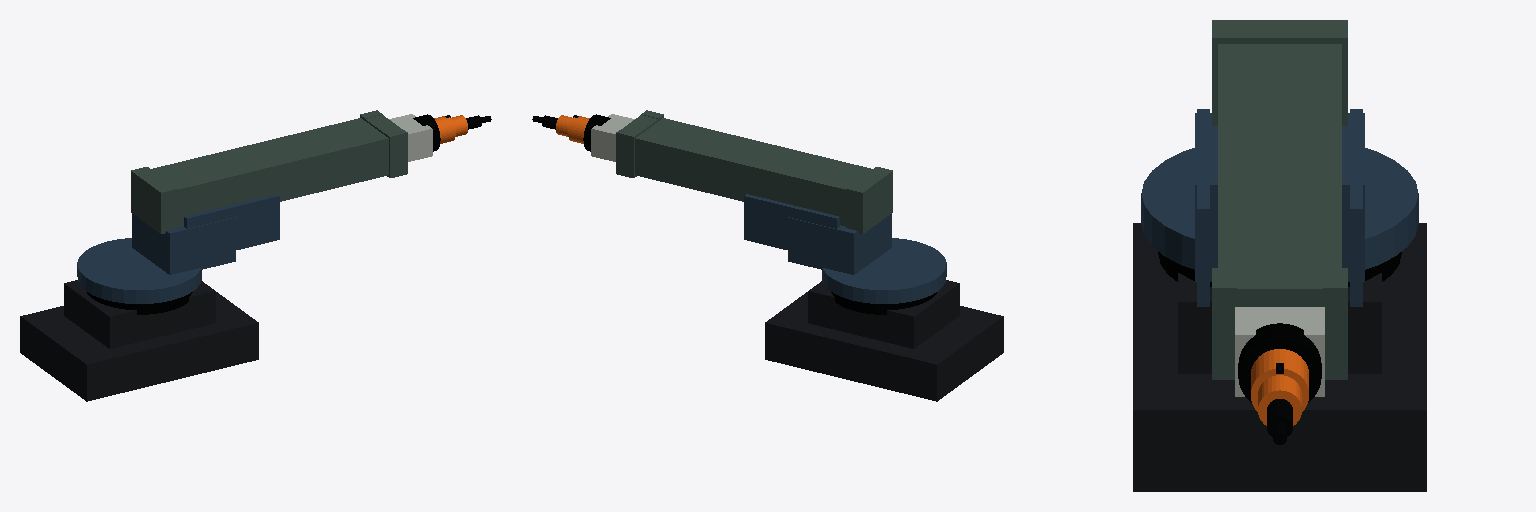
URDF robot description (yawing_telescoping_spindle_arm):
<robot name="yawing_telescoping_spindle_arm">
  <material name="base_casting">
    <color rgba="0.12 0.13 0.14 1" />
    </material>
  <material name="bearing_black">
    <color rgba="0.02 0.022 0.024 1" />
    </material>
  <material name="turntable_blue">
    <color rgba="0.19 0.27 0.34 1" />
    </material>
  <material name="beam_oxide">
    <color rgba="0.27 0.34 0.31 1" />
    </material>
  <material name="slide_steel">
    <color rgba="0.67 0.69 0.66 1" />
    </material>
  <material name="wear_strip">
    <color rgba="0.08 0.09 0.1 1" />
    </material>
  <material name="spindle_orange">
    <color rgba="0.86 0.42 0.12 1" />
    </material>
  <material name="tool_dark">
    <color rgba="0.03 0.035 0.038 1" />
    </material>
  <link name="base">
    <visual name="floor_housing">
      <origin xyz="0 0 0.08" rpy="0 0 0" />
      <geometry>
        <box size="0.78 0.52 0.16" />
        </geometry>
      <material name="base_casting" />
      </visual>
    <visual name="upper_housing">
      <origin xyz="0 0 0.225" rpy="0 0 0" />
      <geometry>
        <box size="0.48 0.36 0.15" />
        </geometry>
      <material name="base_casting" />
      </visual>
    <visual name="yaw_bearing">
      <origin xyz="0 0 0.31" rpy="0 0 0" />
      <geometry>
        <cylinder radius="0.215" length="0.06" />
        </geometry>
      <material name="bearing_black" />
      </visual>
    <visual name="center_boss">
      <origin xyz="0 0 0.255" rpy="0 0 0" />
      <geometry>
        <cylinder radius="0.115" length="0.11" />
        </geometry>
      <material name="bearing_black" />
      </visual>
    <collision name="floor_housing">
      <origin xyz="0 0 0.08" rpy="0 0 0" />
      <geometry>
        <box size="0.78 0.52 0.16" />
        </geometry>
      </collision>
    <collision name="upper_housing">
      <origin xyz="0 0 0.225" rpy="0 0 0" />
      <geometry>
        <box size="0.48 0.36 0.15" />
        </geometry>
      </collision>
    <collision name="yaw_bearing">
      <origin xyz="0 0 0.31" rpy="0 0 0" />
      <geometry>
        <cylinder radius="0.215" length="0.06" />
        </geometry>
      </collision>
    <collision name="center_boss">
      <origin xyz="0 0 0.255" rpy="0 0 0" />
      <geometry>
        <cylinder radius="0.115" length="0.11" />
        </geometry>
      </collision>
    </link>
  <link name="beam">
    <visual name="turntable_disk">
      <origin xyz="0 0 0.03" rpy="0 0 0" />
      <geometry>
        <cylinder radius="0.245" length="0.06" />
        </geometry>
      <material name="turntable_blue" />
      </visual>
    <visual name="saddle_column">
      <origin xyz="0.2 0 0.145" rpy="0 0 0" />
      <geometry>
        <box size="0.3 0.3 0.19" />
        </geometry>
      <material name="turntable_blue" />
      </visual>
    <visual name="side_gusset_0">
      <origin xyz="0.34 0.135 0.19" rpy="0 0 0" />
      <geometry>
        <box size="0.42 0.022 0.19" />
        </geometry>
      <material name="turntable_blue" />
      </visual>
    <visual name="side_gusset_1">
      <origin xyz="0.34 -0.135 0.19" rpy="0 0 0" />
      <geometry>
        <box size="0.42 0.022 0.19" />
        </geometry>
      <material name="turntable_blue" />
      </visual>
    <visual name="guide_top">
      <origin xyz="0.59 0 0.3825" rpy="0 0 0" />
      <geometry>
        <box size="1.02 0.22 0.035" />
        </geometry>
      <material name="beam_oxide" />
      </visual>
    <visual name="guide_bottom">
      <origin xyz="0.59 0 0.2575" rpy="0 0 0" />
      <geometry>
        <box size="1.02 0.22 0.035" />
        </geometry>
      <material name="beam_oxide" />
      </visual>
    <visual name="guide_side_pos">
      <origin xyz="0.59 0.09 0.32" rpy="0 0 0" />
      <geometry>
        <box size="1.02 0.04 0.16" />
        </geometry>
      <material name="beam_oxide" />
      </visual>
    <visual name="guide_side_neg">
      <origin xyz="0.59 -0.09 0.32" rpy="0 0 0" />
      <geometry>
        <box size="1.02 0.04 0.16" />
        </geometry>
      <material name="beam_oxide" />
      </visual>
    <visual name="rear_stop_block">
      <origin xyz="0.065 0 0.32" rpy="0 0 0" />
      <geometry>
        <box size="0.075 0.24 0.18" />
        </geometry>
      <material name="beam_oxide" />
      </visual>
    <visual name="front_collar_top">
      <origin xyz="1.105 0 0.39" rpy="0 0 0" />
      <geometry>
        <box size="0.08 0.24 0.036" />
        </geometry>
      <material name="beam_oxide" />
      </visual>
    <visual name="front_collar_bottom">
      <origin xyz="1.105 0 0.25" rpy="0 0 0" />
      <geometry>
        <box size="0.08 0.24 0.036" />
        </geometry>
      <material name="beam_oxide" />
      </visual>
    <visual name="front_collar_side_pos">
      <origin xyz="1.105 0.098 0.32" rpy="0 0 0" />
      <geometry>
        <box size="0.08 0.044 0.18" />
        </geometry>
      <material name="beam_oxide" />
      </visual>
    <visual name="front_collar_side_neg">
      <origin xyz="1.105 -0.098 0.32" rpy="0 0 0" />
      <geometry>
        <box size="0.08 0.044 0.18" />
        </geometry>
      <material name="beam_oxide" />
      </visual>
    <collision name="turntable_disk">
      <origin xyz="0 0 0.03" rpy="0 0 0" />
      <geometry>
        <cylinder radius="0.245" length="0.06" />
        </geometry>
      </collision>
    <collision name="saddle_column">
      <origin xyz="0.2 0 0.145" rpy="0 0 0" />
      <geometry>
        <box size="0.3 0.3 0.19" />
        </geometry>
      </collision>
    <collision name="side_gusset_0">
      <origin xyz="0.34 0.135 0.19" rpy="0 0 0" />
      <geometry>
        <box size="0.42 0.022 0.19" />
        </geometry>
      </collision>
    <collision name="side_gusset_1">
      <origin xyz="0.34 -0.135 0.19" rpy="0 0 0" />
      <geometry>
        <box size="0.42 0.022 0.19" />
        </geometry>
      </collision>
    <collision name="guide_top">
      <origin xyz="0.59 0 0.3825" rpy="0 0 0" />
      <geometry>
        <box size="1.02 0.22 0.035" />
        </geometry>
      </collision>
    <collision name="guide_bottom">
      <origin xyz="0.59 0 0.2575" rpy="0 0 0" />
      <geometry>
        <box size="1.02 0.22 0.035" />
        </geometry>
      </collision>
    <collision name="guide_side_pos">
      <origin xyz="0.59 0.09 0.32" rpy="0 0 0" />
      <geometry>
        <box size="1.02 0.04 0.16" />
        </geometry>
      </collision>
    <collision name="guide_side_neg">
      <origin xyz="0.59 -0.09 0.32" rpy="0 0 0" />
      <geometry>
        <box size="1.02 0.04 0.16" />
        </geometry>
      </collision>
    <collision name="rear_stop_block">
      <origin xyz="0.065 0 0.32" rpy="0 0 0" />
      <geometry>
        <box size="0.075 0.24 0.18" />
        </geometry>
      </collision>
    <collision name="front_collar_top">
      <origin xyz="1.105 0 0.39" rpy="0 0 0" />
      <geometry>
        <box size="0.08 0.24 0.036" />
        </geometry>
      </collision>
    <collision name="front_collar_bottom">
      <origin xyz="1.105 0 0.25" rpy="0 0 0" />
      <geometry>
        <box size="0.08 0.24 0.036" />
        </geometry>
      </collision>
    <collision name="front_collar_side_pos">
      <origin xyz="1.105 0.098 0.32" rpy="0 0 0" />
      <geometry>
        <box size="0.08 0.044 0.18" />
        </geometry>
      </collision>
    <collision name="front_collar_side_neg">
      <origin xyz="1.105 -0.098 0.32" rpy="0 0 0" />
      <geometry>
        <box size="0.08 0.044 0.18" />
        </geometry>
      </collision>
    </link>
  <link name="forearm">
    <visual name="inner_member">
      <origin xyz="0.12 0 0" rpy="0 0 0" />
      <geometry>
        <box size="0.96 0.108 0.06" />
        </geometry>
      <material name="slide_steel" />
      </visual>
    <visual name="slide_strip_pos">
      <origin xyz="0.16 0.059 0" rpy="0 0 0" />
      <geometry>
        <box size="0.82 0.022 0.066" />
        </geometry>
      <material name="wear_strip" />
      </visual>
    <visual name="slide_strip_neg">
      <origin xyz="0.16 -0.059 0" rpy="0 0 0" />
      <geometry>
        <box size="0.82 0.022 0.066" />
        </geometry>
      <material name="wear_strip" />
      </visual>
    <visual name="end_carriage">
      <origin xyz="0.64 0 0" rpy="0 0 0" />
      <geometry>
        <box size="0.12 0.16 0.12" />
        </geometry>
      <material name="slide_steel" />
      </visual>
    <visual name="bearing_shell">
      <origin xyz="0.71 0 0" rpy="0 1.5708 0" />
      <geometry>
        <cylinder radius="0.074" length="0.06" />
        </geometry>
      <material name="bearing_black" />
      </visual>
    <collision name="inner_member">
      <origin xyz="0.12 0 0" rpy="0 0 0" />
      <geometry>
        <box size="0.96 0.108 0.06" />
        </geometry>
      </collision>
    <collision name="slide_strip_pos">
      <origin xyz="0.16 0.059 0" rpy="0 0 0" />
      <geometry>
        <box size="0.82 0.022 0.066" />
        </geometry>
      </collision>
    <collision name="slide_strip_neg">
      <origin xyz="0.16 -0.059 0" rpy="0 0 0" />
      <geometry>
        <box size="0.82 0.022 0.066" />
        </geometry>
      </collision>
    <collision name="end_carriage">
      <origin xyz="0.64 0 0" rpy="0 0 0" />
      <geometry>
        <box size="0.12 0.16 0.12" />
        </geometry>
      </collision>
    <collision name="bearing_shell">
      <origin xyz="0.71 0 0" rpy="0 1.5708 0" />
      <geometry>
        <cylinder radius="0.074" length="0.06" />
        </geometry>
      </collision>
    </link>
  <link name="spindle">
    <visual name="rear_spindle">
      <origin xyz="0.041 0 0" rpy="0 1.5708 0" />
      <geometry>
        <cylinder radius="0.052" length="0.082" />
        </geometry>
      <material name="spindle_orange" />
      </visual>
    <visual name="front_cap">
      <origin xyz="0.113 0 0" rpy="0 1.5708 0" />
      <geometry>
        <cylinder radius="0.039" length="0.066" />
        </geometry>
      <material name="spindle_orange" />
      </visual>
    <visual name="collet">
      <origin xyz="0.181 0 0" rpy="0 1.5708 0" />
      <geometry>
        <cylinder radius="0.023" length="0.074" />
        </geometry>
      <material name="tool_dark" />
      </visual>
    <visual name="tool_stub">
      <origin xyz="0.239 0 0" rpy="0 1.5708 0" />
      <geometry>
        <cylinder radius="0.012" length="0.055" />
        </geometry>
      <material name="tool_dark" />
      </visual>
    <visual name="index_mark">
      <origin xyz="0.075 0 0.049" rpy="0 0 0" />
      <geometry>
        <box size="0.02 0.014 0.012" />
        </geometry>
      <material name="tool_dark" />
      </visual>
    <collision name="rear_spindle">
      <origin xyz="0.041 0 0" rpy="0 1.5708 0" />
      <geometry>
        <cylinder radius="0.052" length="0.082" />
        </geometry>
      </collision>
    <collision name="front_cap">
      <origin xyz="0.113 0 0" rpy="0 1.5708 0" />
      <geometry>
        <cylinder radius="0.039" length="0.066" />
        </geometry>
      </collision>
    <collision name="collet">
      <origin xyz="0.181 0 0" rpy="0 1.5708 0" />
      <geometry>
        <cylinder radius="0.023" length="0.074" />
        </geometry>
      </collision>
    <collision name="tool_stub">
      <origin xyz="0.239 0 0" rpy="0 1.5708 0" />
      <geometry>
        <cylinder radius="0.012" length="0.055" />
        </geometry>
      </collision>
    <collision name="index_mark">
      <origin xyz="0.075 0 0.049" rpy="0 0 0" />
      <geometry>
        <box size="0.02 0.014 0.012" />
        </geometry>
      </collision>
    </link>
  <joint name="base_yaw" type="revolute">
    <origin xyz="0 0 0.34" rpy="0 0 0" />
    <parent link="base" />
    <child link="beam" />
    <axis xyz="0 0 1" />
    <limit effort="250" velocity="0.8" lower="-3.14159" upper="3.14159" />
    </joint>
  <joint name="forearm_slide" type="prismatic">
    <origin xyz="0.58 0 0.32" rpy="0 0 0" />
    <parent link="beam" />
    <child link="forearm" />
    <axis xyz="1 0 0" />
    <limit effort="900" velocity="0.3" lower="0" upper="0.34" />
    </joint>
  <joint name="spindle_spin" type="revolute">
    <origin xyz="0.74 0 0" rpy="0 0 0" />
    <parent link="forearm" />
    <child link="spindle" />
    <axis xyz="1 0 0" />
    <limit effort="35" velocity="12" lower="-3.14159" upper="3.14159" />
    </joint>
  </robot>

--- Render facts (derived) ---
Views: 3 orthographic renders of the robot side by side, from view 1: azimuth 30°, elevation 25°; view 2: azimuth 150°, elevation 25°; view 3: azimuth 270°, elevation 25°.
Robot: yawing_telescoping_spindle_arm — 4 links, 3 joints (2 revolute, 1 prismatic); root link base; default pose: all joints at 0.
Visible links, largest first — view 1: beam, base, forearm, spindle; view 2: beam, base, forearm, spindle; view 3: beam, base, forearm, spindle.
Link boxes in pixels (x1,y1,x2,y2): beam: [77, 110, 407, 303]; base: [20, 280, 258, 401]; forearm: [389, 114, 440, 161]; spindle: [434, 115, 491, 143]; beam: [616, 110, 946, 303]; base: [765, 280, 1003, 401]; forearm: [583, 114, 634, 161]; spindle: [532, 115, 589, 143]; beam: [1141, 20, 1418, 379]; base: [1133, 223, 1426, 491]; forearm: [1235, 307, 1324, 402]; spindle: [1251, 349, 1308, 444].
Size in the robot's own frame: 1.98 by 0.52 by 0.75 metres.
Geometry: primitives only (box / cylinder / sphere), no mesh files.
